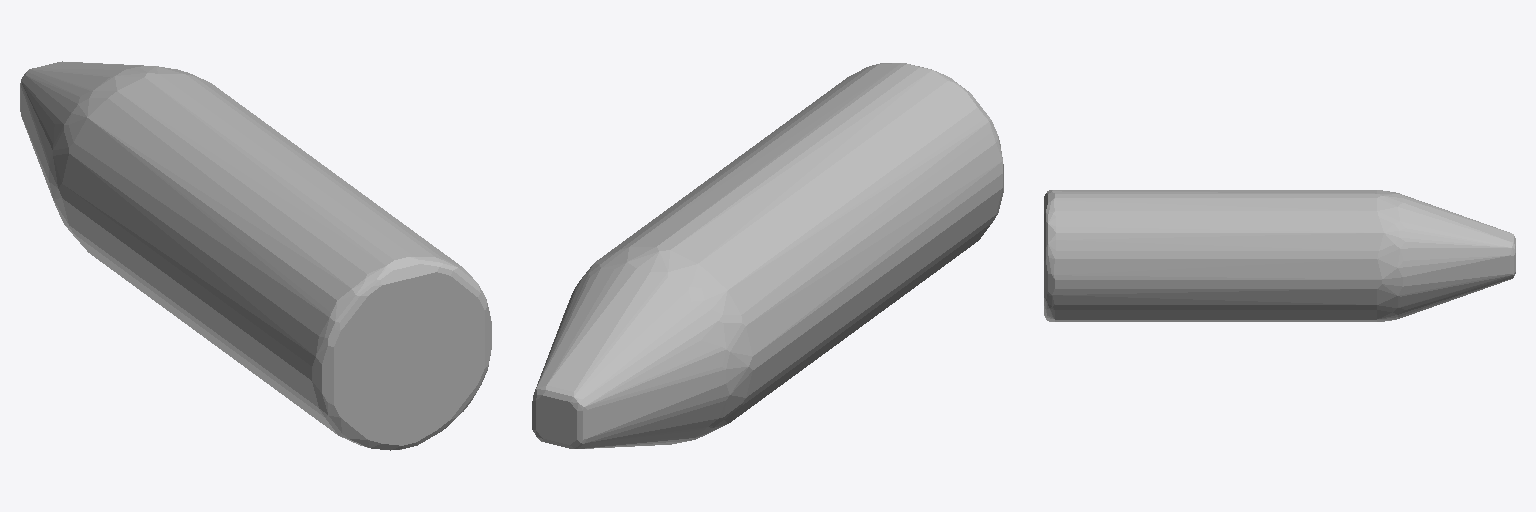
The robot description file, URDF, robot "root":
<?xml version="1.0"?>
<robot name="root">
  <link name="base_link">
    <visual>
      <origin xyz="0 0 0" rpy="0 0 0" />
      <geometry>
        <mesh filename="../meshes/unidex_core_bottle-bfe7d0102dcd0deff43af5716b936459_008.obj" scale="1.0000E+00 1.0000E+00 1.0000E+00" />
      </geometry>
      <material name="">
        <color rgba="7.50E-01 7.50E-01 7.50E-01 1" />
      </material>
    </visual>
    <collision>
      <origin xyz="0 0 0" rpy="0 0 0" />
      <geometry>
        <mesh filename="../meshes/unidex_core_bottle-bfe7d0102dcd0deff43af5716b936459_008.obj" scale="1.0000E+00 1.0000E+00 1.0000E+00" />
      </geometry>
    </collision>
  </link>
</robot>

--- Render facts (derived) ---
The picture shows the robot from 3 angles, left to right: view 1: azimuth 30°, elevation 25°; view 2: azimuth 150°, elevation 25°; view 3: azimuth 270°, elevation 25°; orthographic projection.
Robot: root — 1 links, 0 joints (none); root link base_link; default pose: every joint at zero.
Links seen in each view (by area): view 1: base_link; view 2: base_link; view 3: base_link.
Link boxes in pixels (<box>): base_link: <box>20,61,491,450</box>; base_link: <box>532,63,1003,448</box>; base_link: <box>1044,190,1515,321</box>.
Size in the robot's own frame: 0.043 by 0.1522 by 0.043 metres.
1 mesh visuals loaded from 1 distinct referenced files (1 OBJ).
